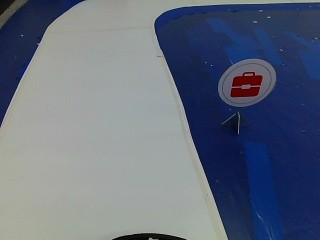company: (222, 60, 272, 105)
